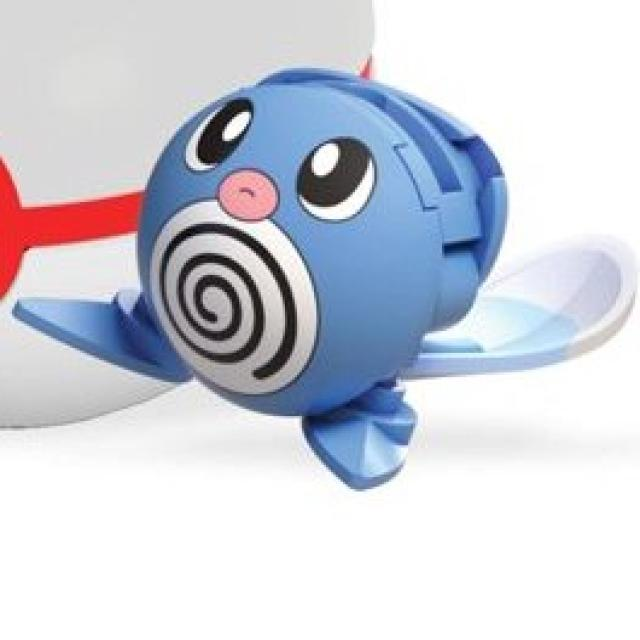Poliwag: (97, 66, 541, 431)
